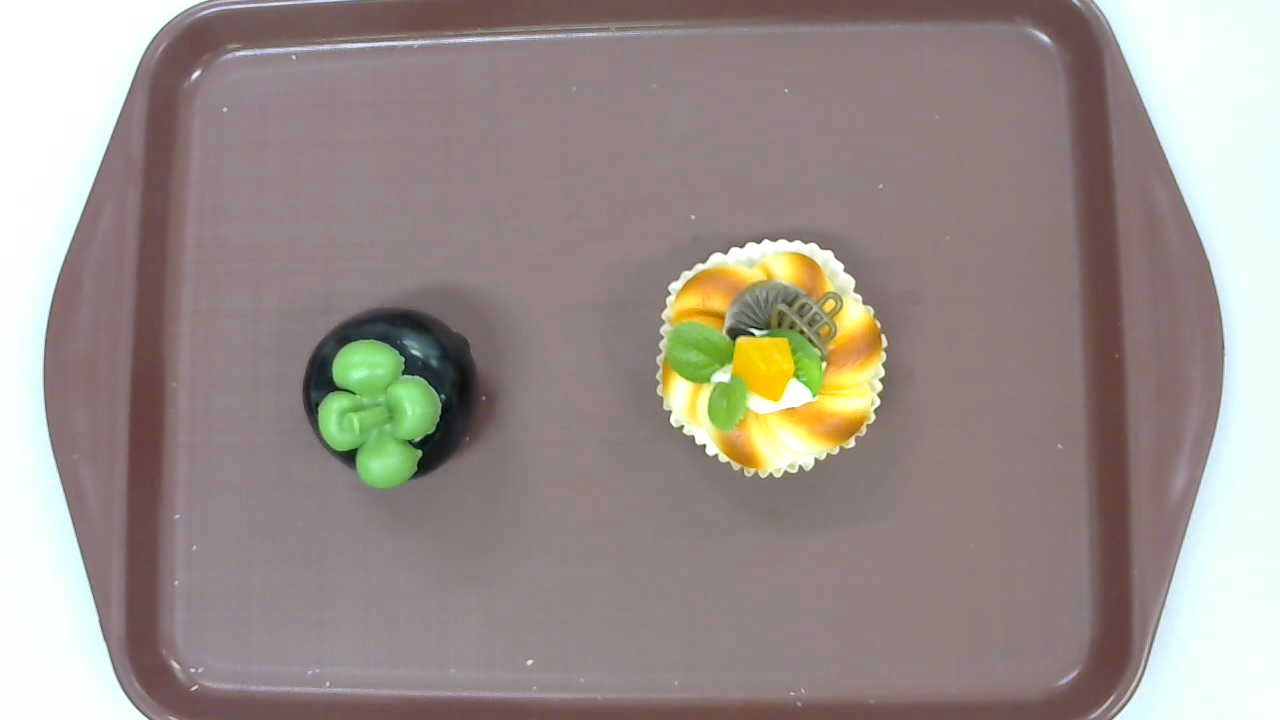fruit tart: (653, 238, 889, 480)
mangosteen: (302, 305, 478, 490)
